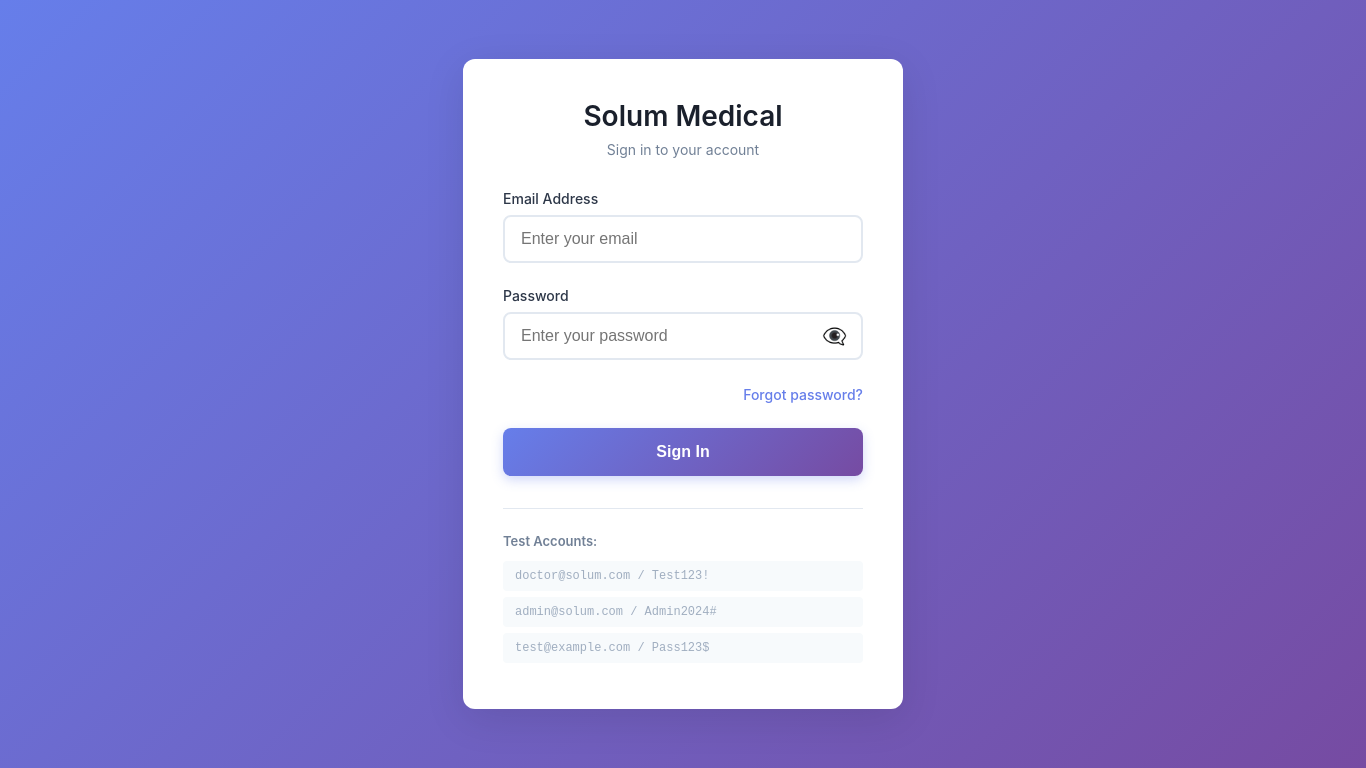
it: Solum Medical Login Page › Email Validation › should show error for invalid email format
Clear the field labelled "Email Address" at [683, 239], box x1=503 y1=215 x2=863 y2=263
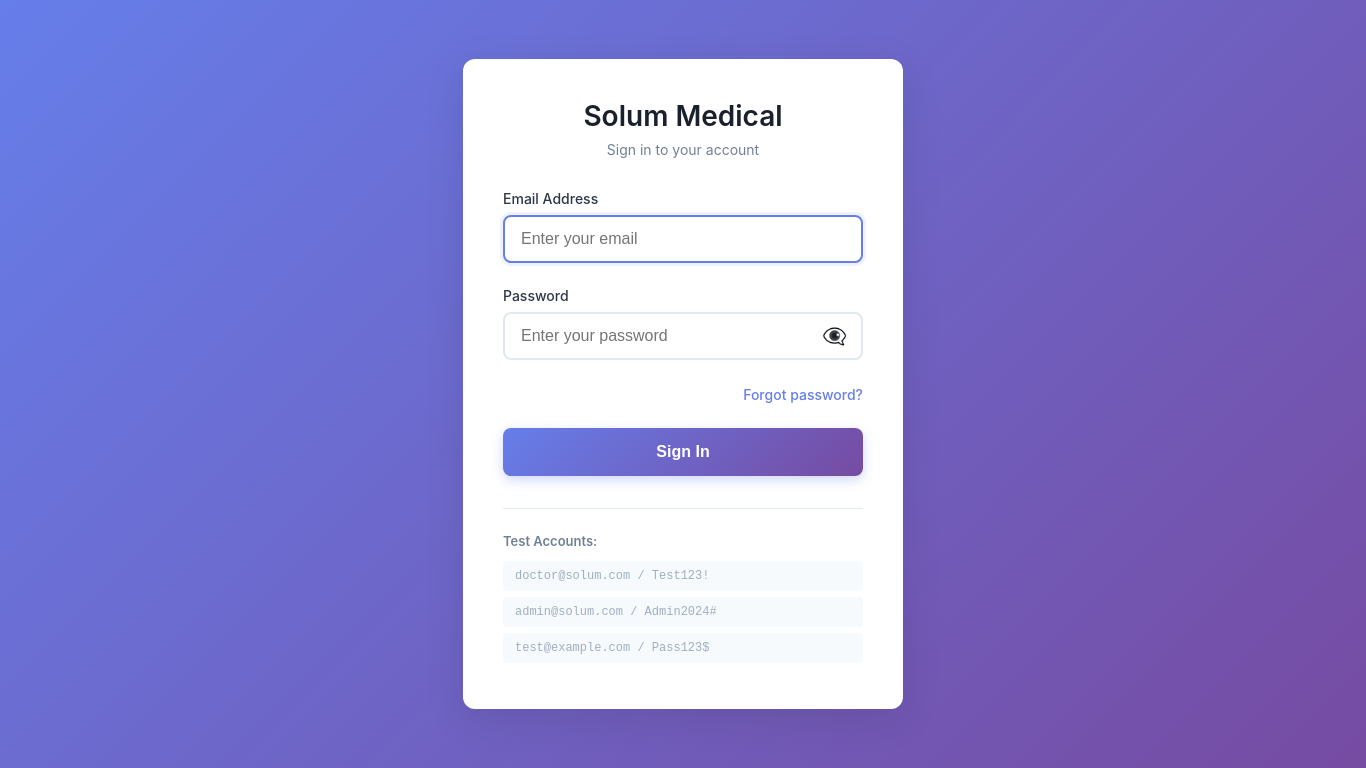
Clear the password field labelled "Password" at [683, 336], box x1=503 y1=312 x2=863 y2=360
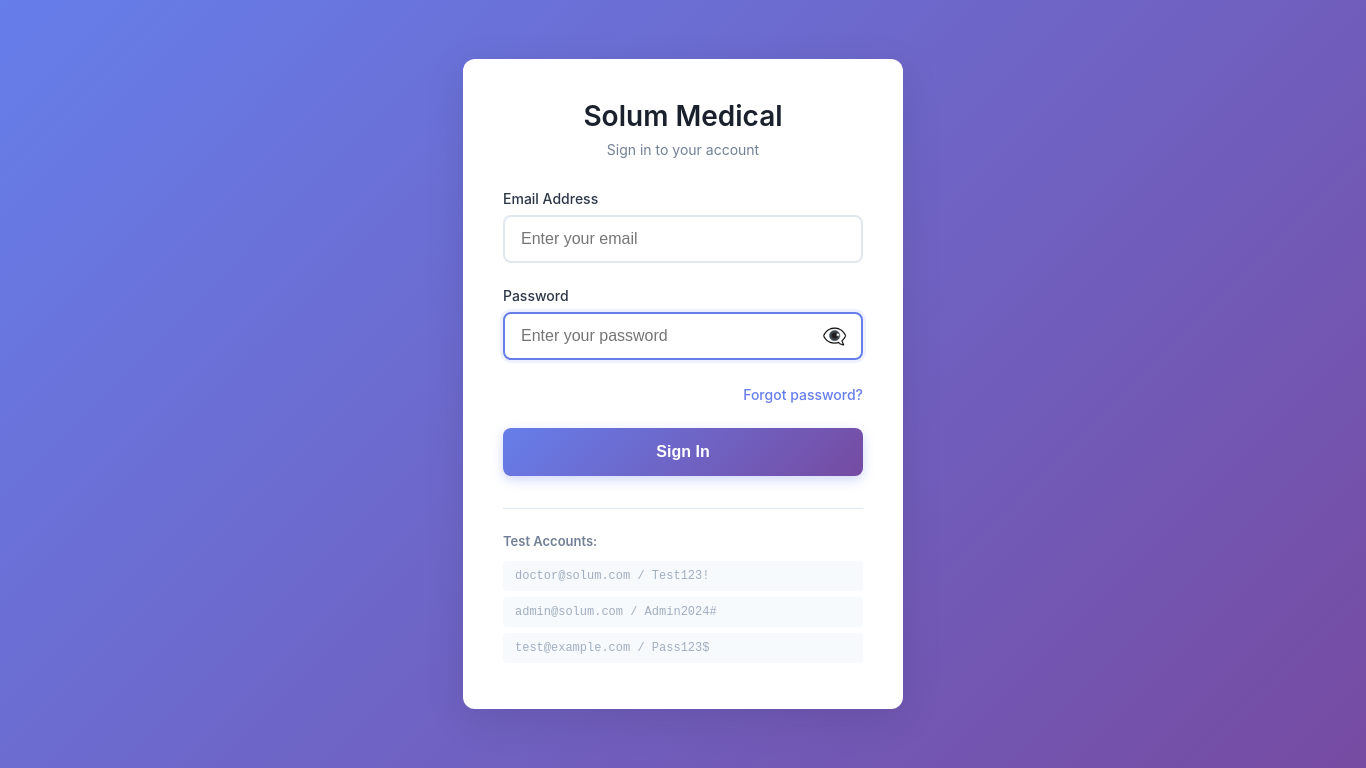
Type "invalid-email" into the field labelled "Email Address" at [683, 239], box x1=503 y1=215 x2=863 y2=263
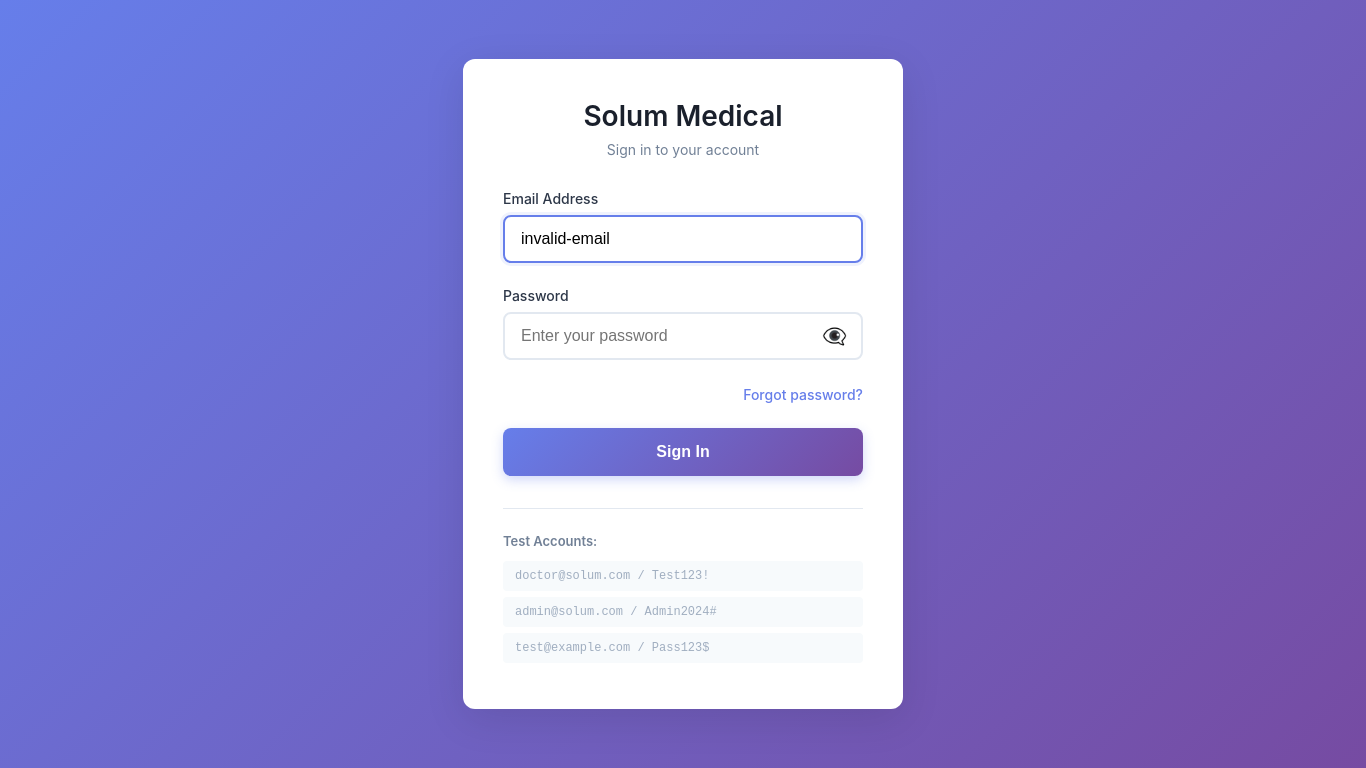
Type "Test123!" into the password field labelled "Password" at [683, 336], box x1=503 y1=312 x2=863 y2=360
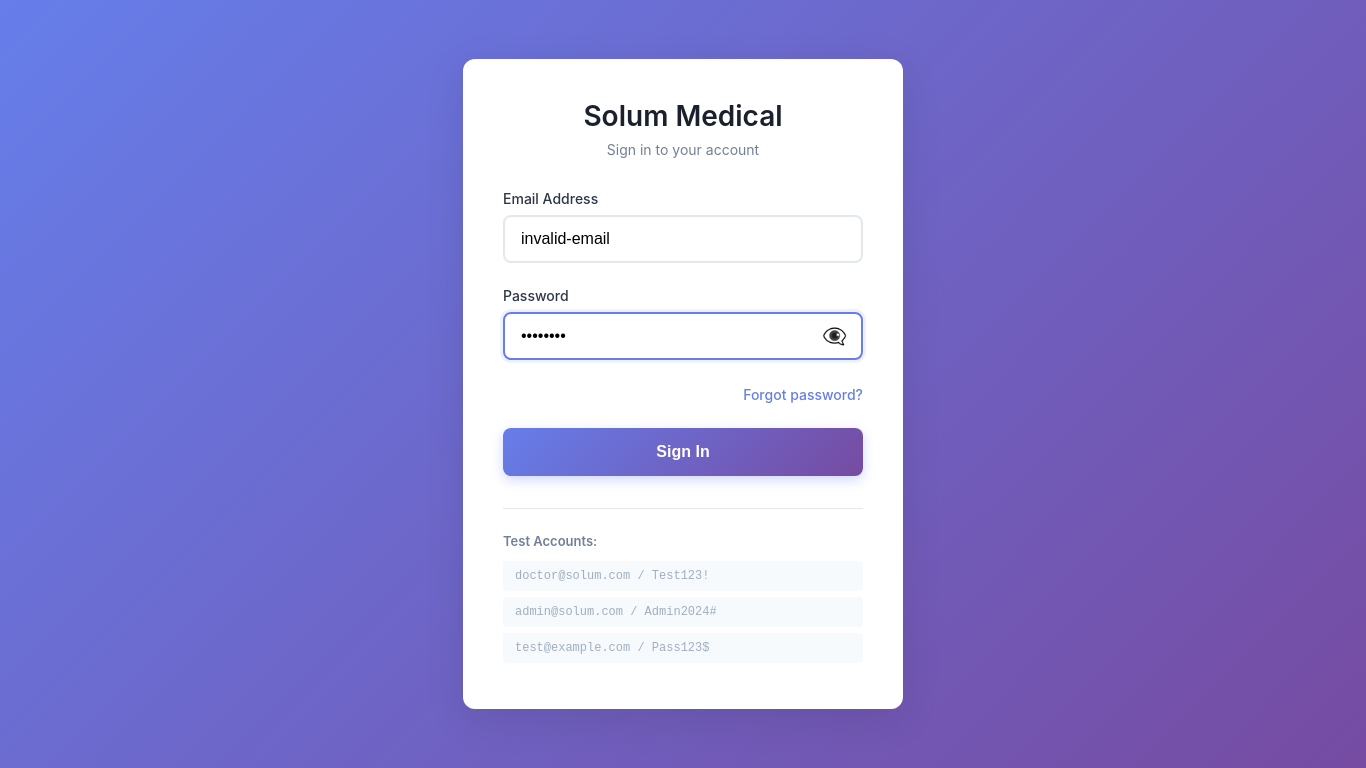
Click the button "Sign In" at [683, 452], box x1=503 y1=428 x2=863 y2=476
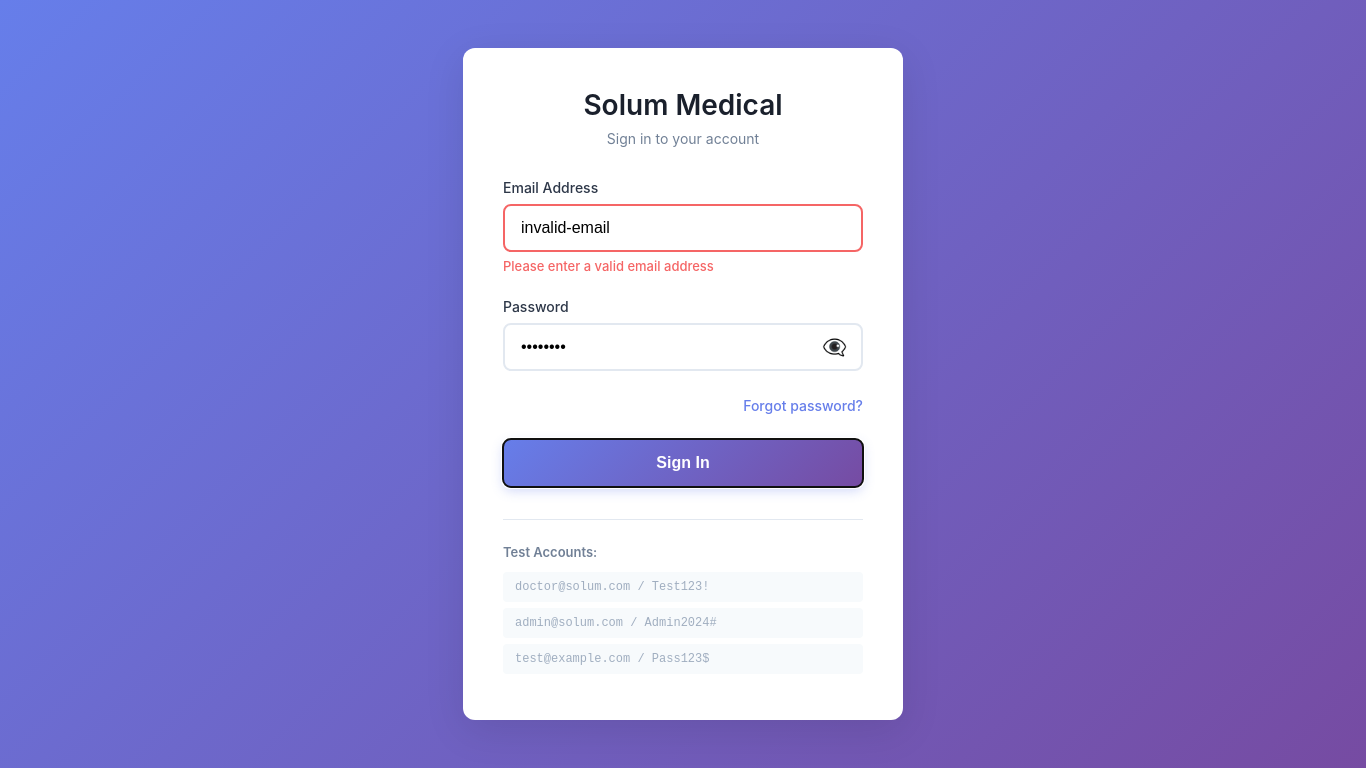
Now the text "Please enter a valid email address" is shown, box x1=503 y1=258 x2=714 y2=274
